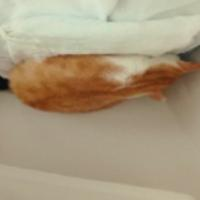asleep: (8, 52, 200, 120)
